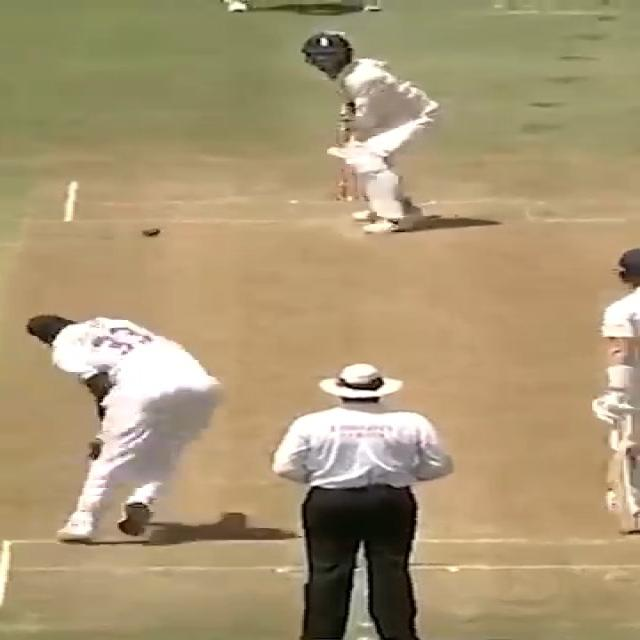Cricket ball: (140, 226, 163, 238)
